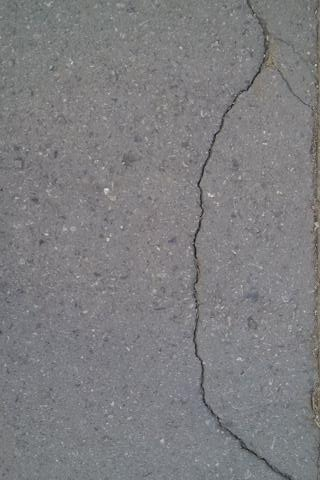A: (189, 1, 294, 480)
